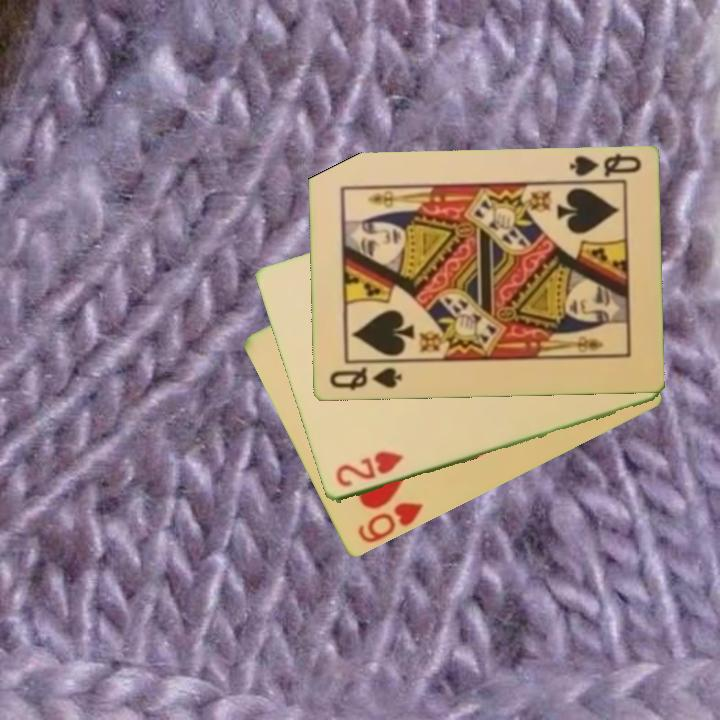2h: (332, 448, 407, 491)
6h: (354, 499, 426, 547)
Qs: (565, 150, 643, 186), (325, 364, 404, 394)
